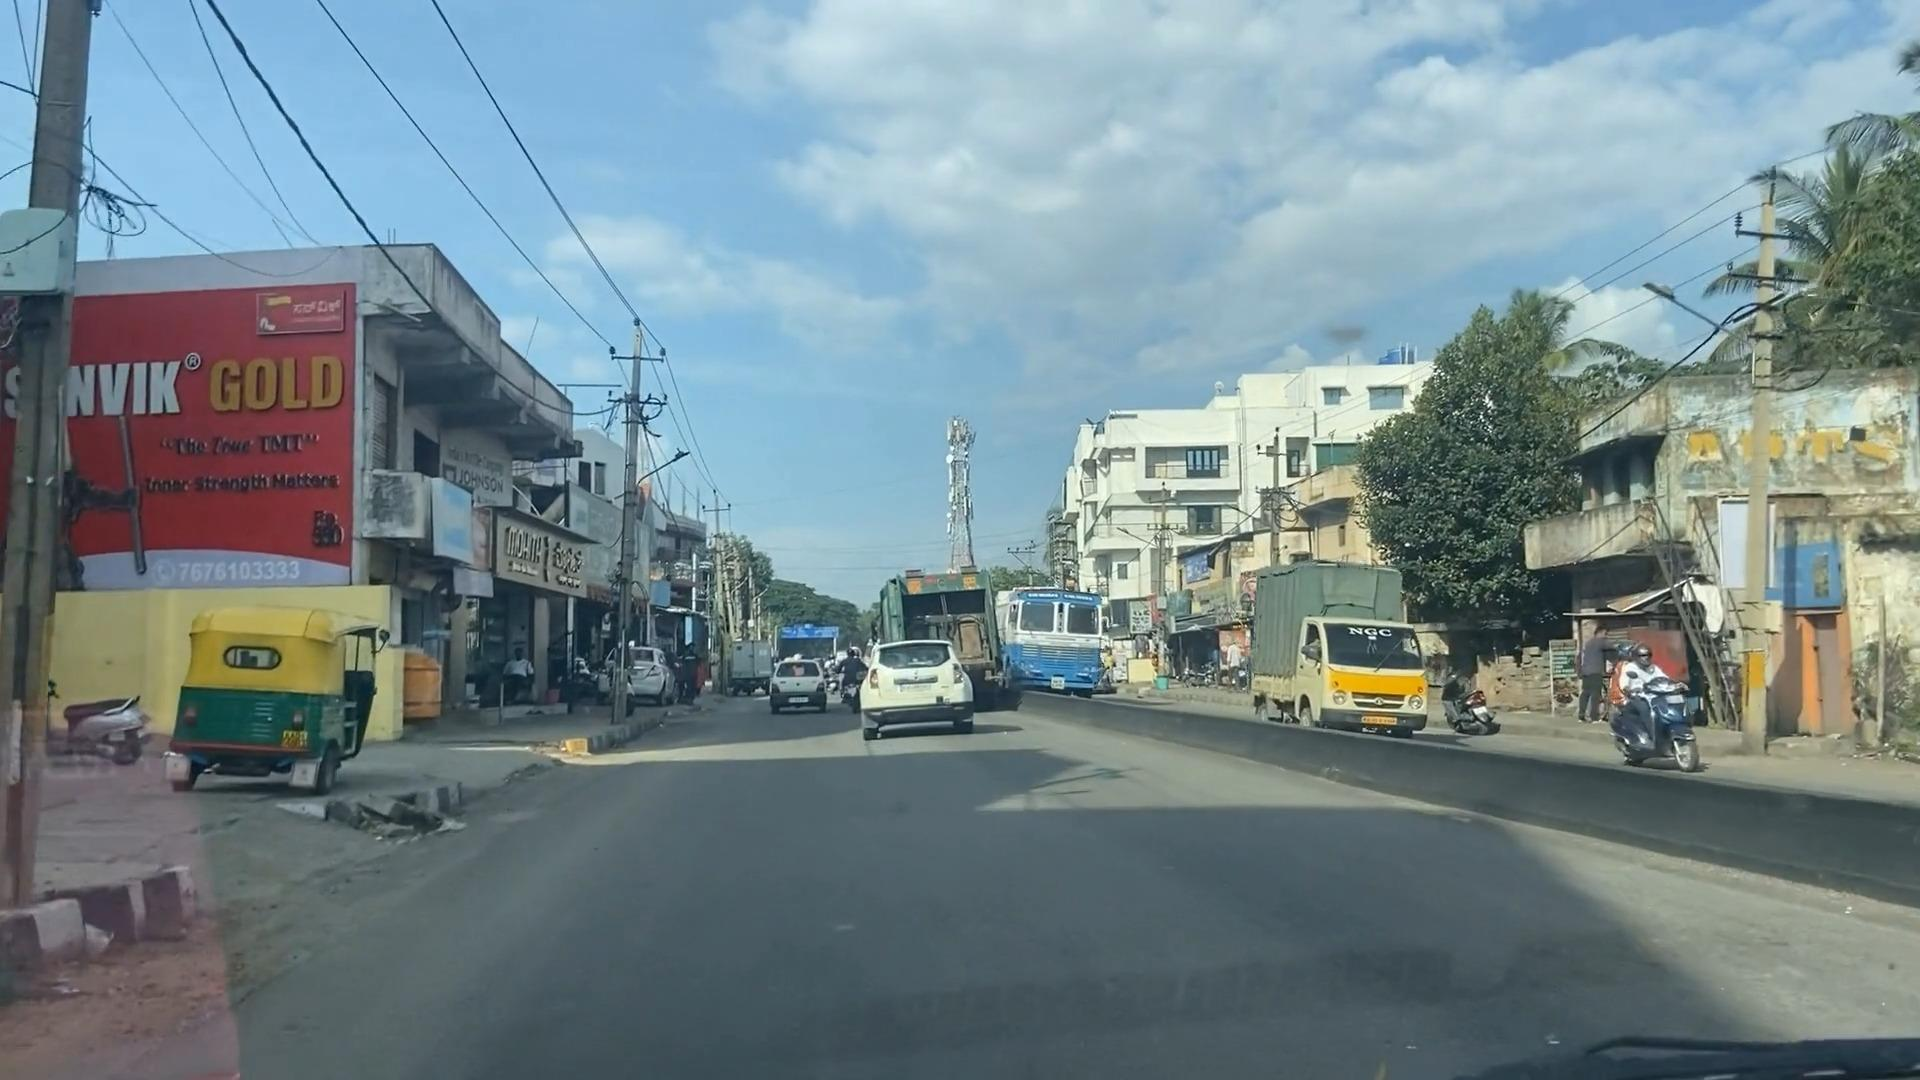LMV: (862, 649, 973, 733)
RoadDamages: (38, 890, 375, 1075)
